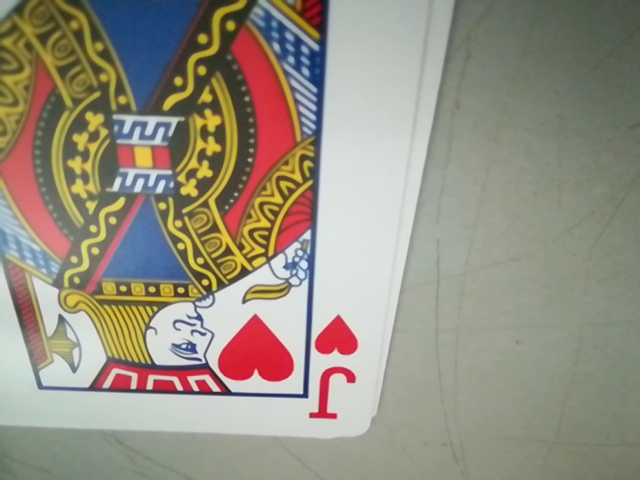hx j: (304, 305, 368, 423)
